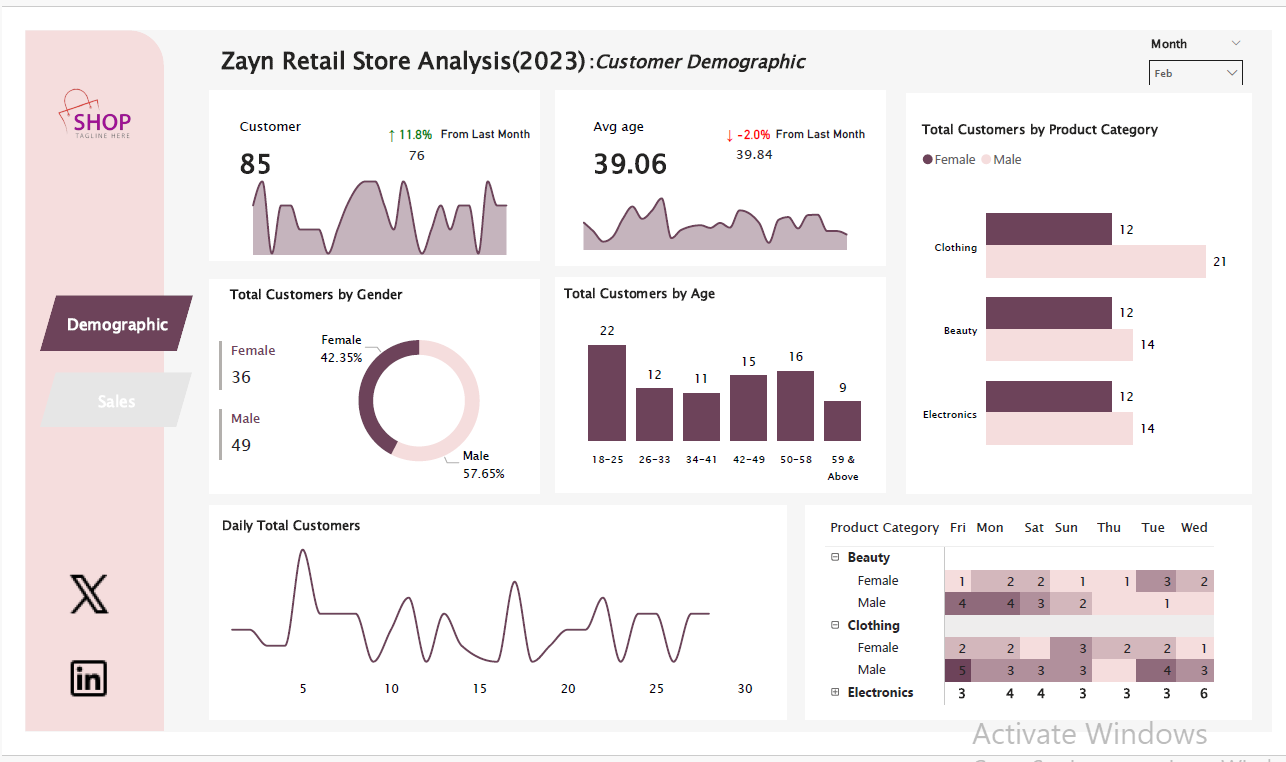

The dashboard page shown, as its layout file describes it:
{"tool":"powerbi","page":{"name":"Duplicate of Page 2","canvas":[1280,720],"ordinal":2},"visuals":[{"type":"shape","box":[0,0,134.2,720.5],"z":0},{"type":"shape","box":[178.9,73.5,343.5,186.9],"z":1000},{"type":"shape","box":[909.1,76.7,343.5,420.2],"z":2000},{"type":"shape","box":[543.2,273.2,343.5,223.7],"z":3000},{"type":"shape","box":[178.9,273.2,343.5,223.7],"z":4000},{"type":"shape","box":[178.7,507.3,601.1,199.9],"z":5000},{"type":"shape","box":[801,507.3,451.2,199.9],"z":6000},{"type":"card","title":"Total customers","fields":{"Values":["measures (2).count customer"]},"box":[178.9,76.7,140.6,81.5],"z":7000},{"type":"card","fields":{"Values":["measures (2).PM customer"]},"box":[319.5,108.6,99.1,41.5],"z":8000},{"type":"card","fields":{"Values":["measures (2).customer icon"]},"box":[308.4,68.7,110.2,35.1],"z":9000},{"type":"shape","box":[405.8,63.9,116.6,39.9],"z":10000},{"type":"areaChart","fields":{"Category":["Date.Month name"],"Y":["measures (2).pm growth"]},"box":[178.9,158.2,343.5,75.1],"z":11000},{"type":"slicer","fields":{"Values":["Date.Month name"]},"box":[958.6,6.4,210.9,57.5],"z":12000},{"type":"shape","box":[543.2,73.5,343.5,186.9],"z":13000},{"type":"card","fields":{"Values":["Age measures.age icon"]},"box":[666.2,73.5,99.1,35.1],"z":14000},{"type":"card","title":"Average Age","fields":{"Values":["Age measures.average age"]},"box":[543.2,76.7,123,91.1],"z":15000},{"type":"card","fields":{"Values":["Age measures.PM age"]},"box":[656.6,108.6,97.5,41.5],"z":16000},{"type":"shape","box":[754.1,68.7,132.6,44.7],"z":17000},{"type":"areaChart","fields":{"Category":["Date.Month name"],"Y":["Age measures.age growth"]},"box":[543.2,158.2,343.5,75.1],"z":18000},{"type":"donutChart","fields":{"Category":["retail_sales_dataset.Gender"],"Y":["measures (2).count customer"]},"box":[294,273.2,223.7,212.5],"z":19000},{"type":"multiRowCard","fields":{"Values":["retail_sales_dataset.Gender","measures (2).count customer"]},"box":[178.9,359.5,129.4,126.2],"z":20000},{"type":"columnChart","fields":{"Category":["retail_sales_dataset.age group"],"Y":["measures (2).count customer"]},"box":[543.2,273.2,343.5,223.7],"z":21000},{"type":"clusteredBarChart","title":"Sales by Product Category","fields":{"Category":["retail_sales_dataset.Product Category"],"Series":["retail_sales_dataset.Gender"],"Y":["CountNonNull(retail_sales_dataset.Gender)"]},"box":[909.1,81.5,343.5,404.2],"z":22000},{"type":"lineChart","fields":{"Category":["Date.Days of the week"],"Y":["measures (2).count customer"]},"box":[190.8,507.3,573.9,199.9],"z":23000},{"type":"lineChart","fields":{"Category":["Date.Month name"],"Y":["quantity measures.Quantity sold"]},"box":[800.4,506.5,452.1,199.7],"z":24000},{"type":"shape","box":[100.7,11.2,822.8,57.5],"z":25000},{"type":"image","box":[22.4,580,78.3,92.7],"z":26000},{"type":"shape","box":[22.4,260.4,140.6,44.7],"z":27000},{"type":"shape","box":[22.4,333.9,140.6,46.3],"z":28000},{"type":"image","box":[22.4,76.7,78.3,94.3],"z":29000},{"type":"shape","box":[178.9,273.2,172.5,32],"z":30000}]}

Visuals, with their boxes on the page's 1280x720 design canvas (x1, y1, x2, y2). These are canvas units, not pixel positions in the 1286x762 screenshot, which may show the page scaled, cropped or inside an application window:
shape: [0,0,134,720]
shape: [179,74,522,260]
shape: [909,77,1253,497]
shape: [543,273,887,497]
shape: [179,273,522,497]
shape: [179,507,780,707]
shape: [801,507,1252,707]
"Total customers" card: [179,77,320,158]
card - measures (2).PM customer: [320,109,419,150]
card - measures (2).customer icon: [308,69,419,104]
shape: [406,64,522,104]
areaChart - Date.Month name x measures (2).pm growth: [179,158,522,233]
slicer - Date.Month name: [959,6,1170,64]
shape: [543,74,887,260]
card - Age measures.age icon: [666,74,765,109]
"Average Age" card: [543,77,666,168]
card - Age measures.PM age: [657,109,754,150]
shape: [754,69,887,113]
areaChart - Date.Month name x Age measures.age growth: [543,158,887,233]
donutChart - retail_sales_dataset.Gender x measures (2).count customer: [294,273,518,486]
multiRowCard - retail_sales_dataset.Gender x measures (2).count customer: [179,360,308,486]
columnChart - retail_sales_dataset.age group x measures (2).count customer: [543,273,887,497]
"Sales by Product Category" clusteredBarChart: [909,82,1253,486]
lineChart - Date.Days of the week x measures (2).count customer: [191,507,765,707]
lineChart - Date.Month name x quantity measures.Quantity sold: [800,506,1252,706]
shape: [101,11,924,69]
image: [22,580,101,673]
shape: [22,260,163,305]
shape: [22,334,163,380]
image: [22,77,101,171]
shape: [179,273,351,305]
